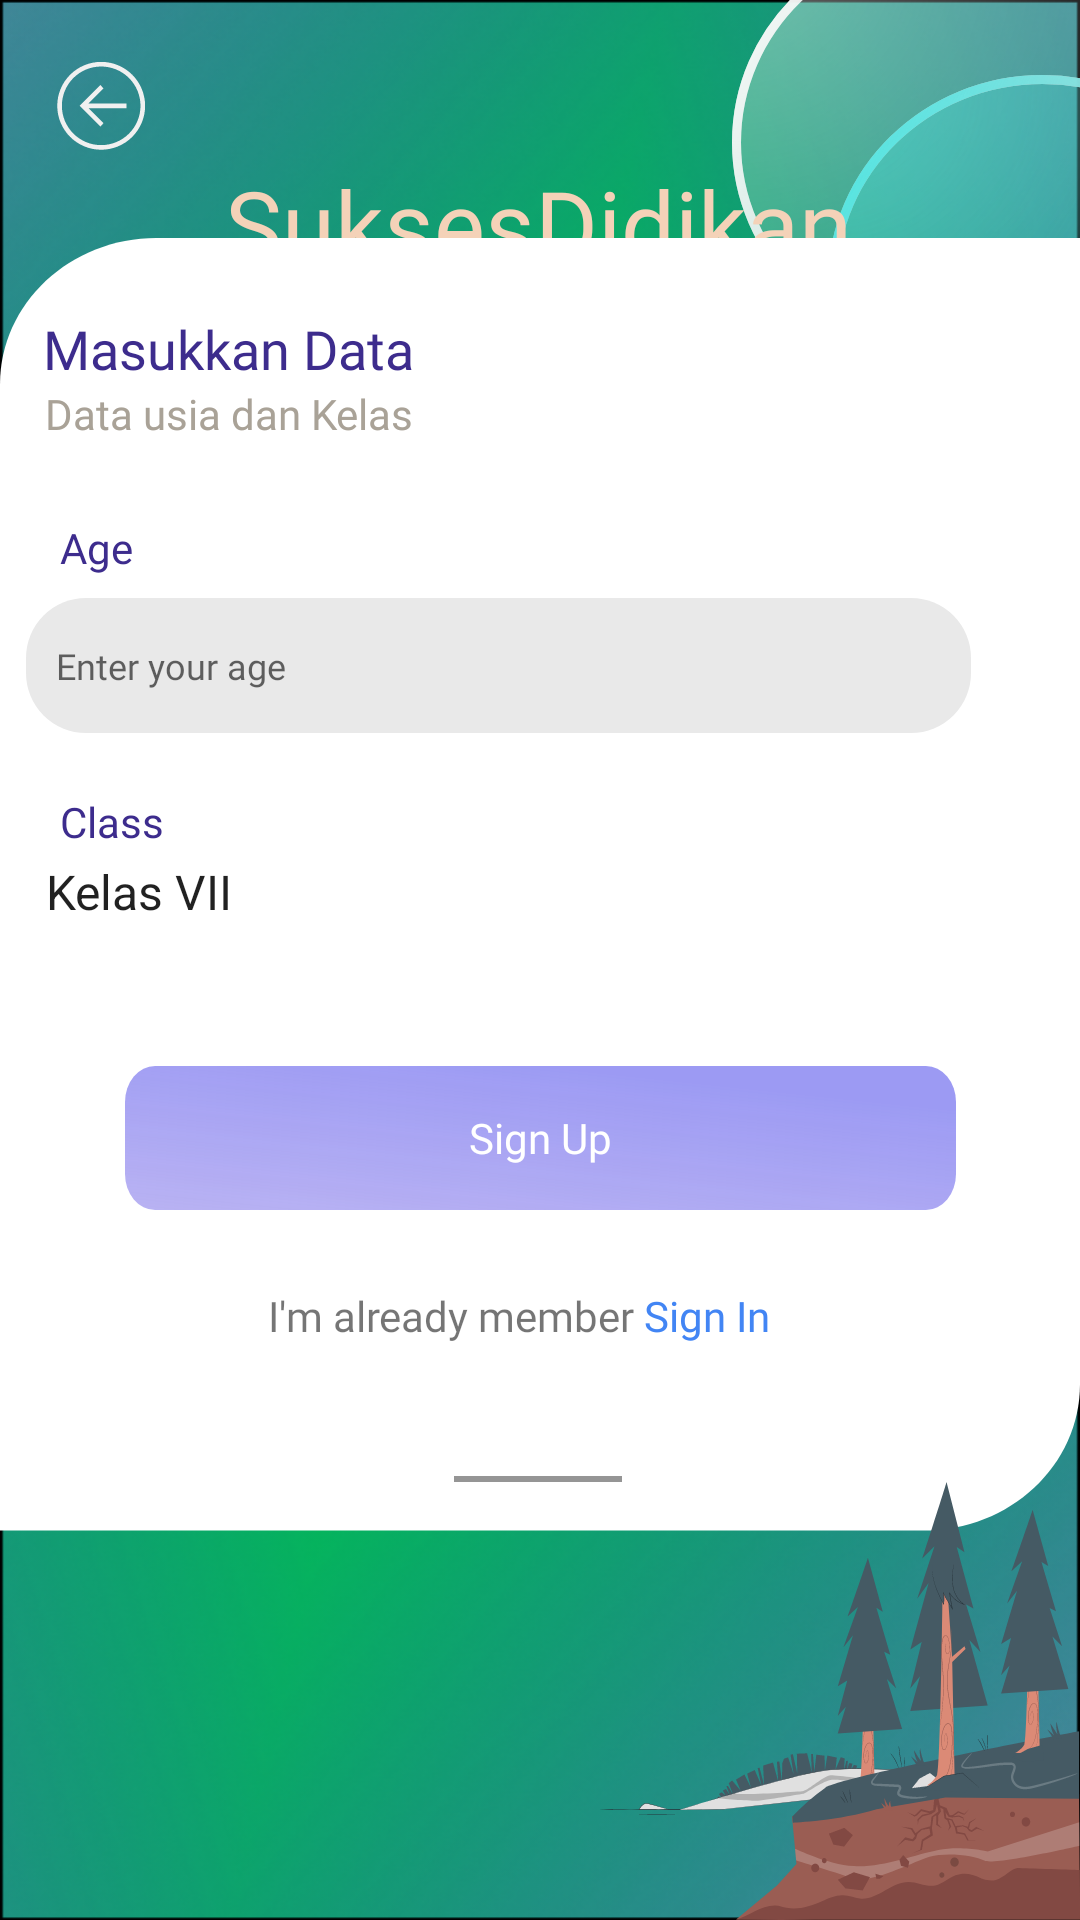

Locate icon controls on the screen. Image size 1080px×1920px, boxes as Rect(x1, y1, x2, y2).
back: Rect(57, 62, 145, 150)
